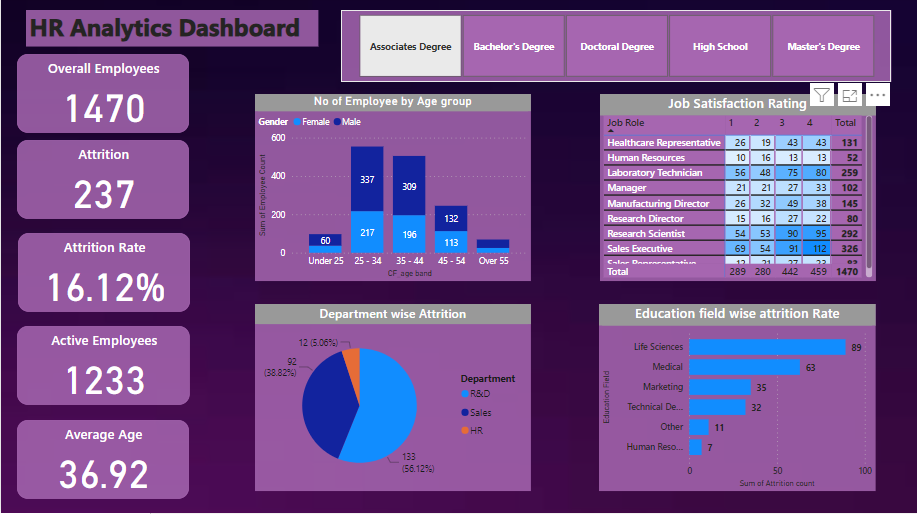

The page's visual inventory and layout, read from the dashboard file:
{"tool":"powerbi","page":{"name":"HR Analytics Dash Board","canvas":[1280,720],"ordinal":0},"visuals":[{"type":"card","title":"Overall Employees","fields":{"Values":["Sum(HR data.Employee Count)"]},"box":[21.7,79.6,240,109.7],"z":0},{"type":"card","title":"Attrition","fields":{"Values":["Sum(HR data.Attrition count)"]},"box":[21.7,199,240,109.7],"z":1000},{"type":"card","title":"Attrition Rate","fields":{"Values":["HR data.Attrition Rate"]},"box":[24.1,329.2,240,109.7],"z":2000},{"type":"card","title":"Active Employees","fields":{"Values":["HR data.Active Employees"]},"box":[21.7,459.5,241.2,109.7],"z":3000},{"type":"card","title":"Average Age","fields":{"Values":["Avg(HR data.Age)"]},"box":[22.9,589.7,240,109.7],"z":4000},{"type":"pieChart","title":"Department wise Attrition","fields":{"Category":["HR data.Department"],"Y":["Sum(HR data.Attrition count)"]},"box":[354.6,428.1,384.7,260.5],"z":5000},{"type":"columnChart","title":"No of Employee  by Age group","fields":{"Category":["HR data.CF_age band"],"Y":["Sum(HR data.Employee Count)"],"Series":["HR data.Gender"]},"box":[354.6,135.1,384.7,260.5],"z":6000},{"type":"pivotTable","title":"Job Satisfaction Rating","fields":{"Rows":["HR data.Job Role"],"Columns":["HR data.Job Satisfaction"],"Values":["Sum(HR data.Employee Count)"]},"box":[835.8,135.1,384.7,260.5],"z":7000},{"type":"barChart","title":"Education field wise attrition Rate","fields":{"Category":["HR data.Education Field"],"Y":["Sum(HR data.Attrition count)"]},"box":[834.6,428.1,385.9,260.5],"z":8000},{"type":"textbox","title":"HR Analytics Dashboard","box":[35,18.1,407.6,50.7],"z":9000},{"type":"slicer","fields":{"Values":["HR data.Education"]},"box":[474,18.1,768.2,100.1],"z":10000}]}

Visuals, with their boxes in screenshot pixels (x1, y1, x2, y2), scaled from the page's 1280x720 canvas onto the 917x514 screenshot:
"Overall Employees" card: [x1=16, y1=57, x2=187, y2=135]
"Attrition" card: [x1=16, y1=142, x2=187, y2=220]
"Attrition Rate" card: [x1=17, y1=235, x2=189, y2=313]
"Active Employees" card: [x1=16, y1=328, x2=188, y2=406]
"Average Age" card: [x1=16, y1=421, x2=188, y2=499]
"Department wise Attrition" pieChart: [x1=254, y1=306, x2=530, y2=492]
"No of Employee  by Age group" columnChart: [x1=254, y1=96, x2=530, y2=282]
"Job Satisfaction Rating" pivotTable: [x1=599, y1=96, x2=874, y2=282]
"Education field wise attrition Rate" barChart: [x1=598, y1=306, x2=874, y2=492]
"HR Analytics Dashboard" textbox: [x1=25, y1=13, x2=317, y2=49]
slicer - HR data.Education: [x1=340, y1=13, x2=890, y2=84]
